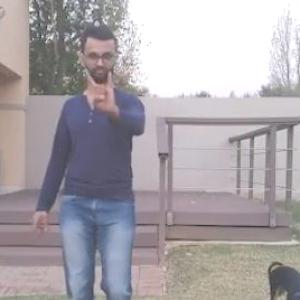takeoff-hand: (80, 58, 126, 117)
